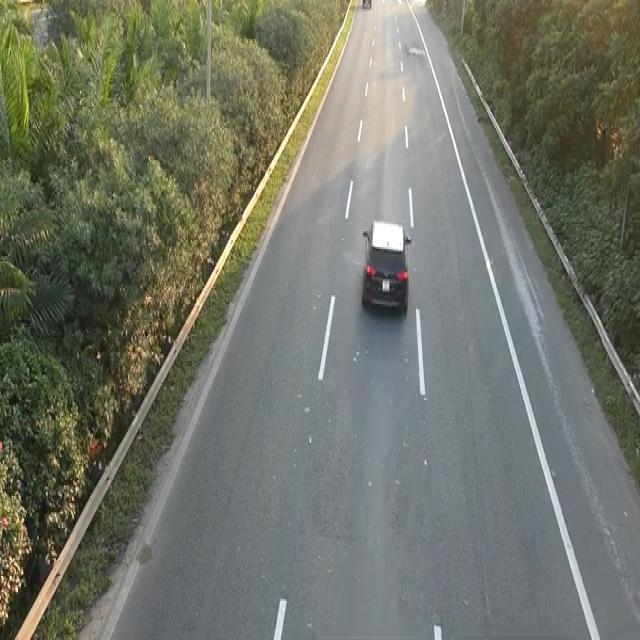car: (359, 215, 412, 317)
